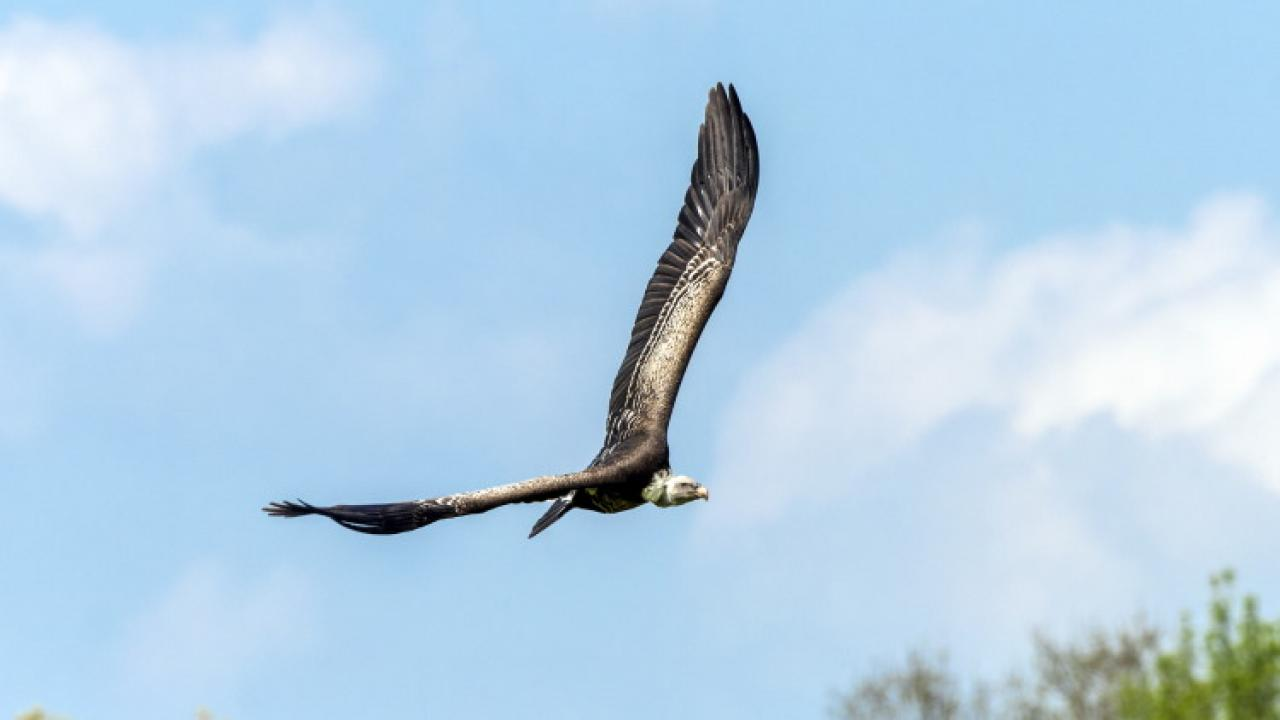Bird: (242, 69, 787, 557)
